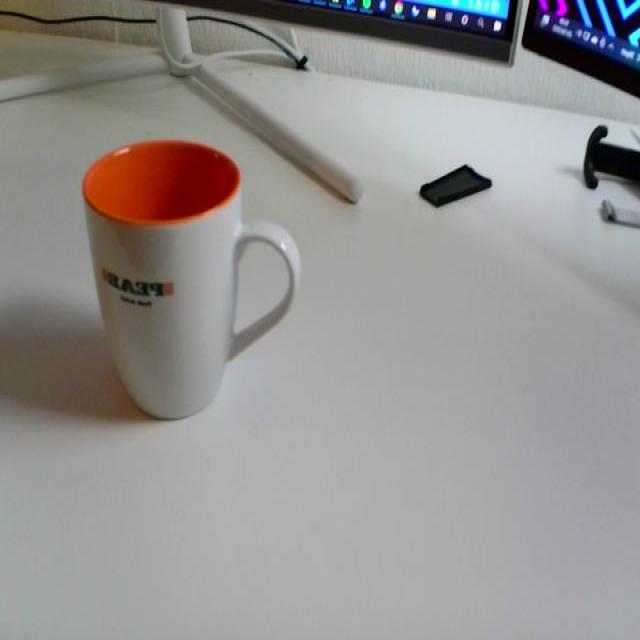cup: (82, 133, 310, 435)
